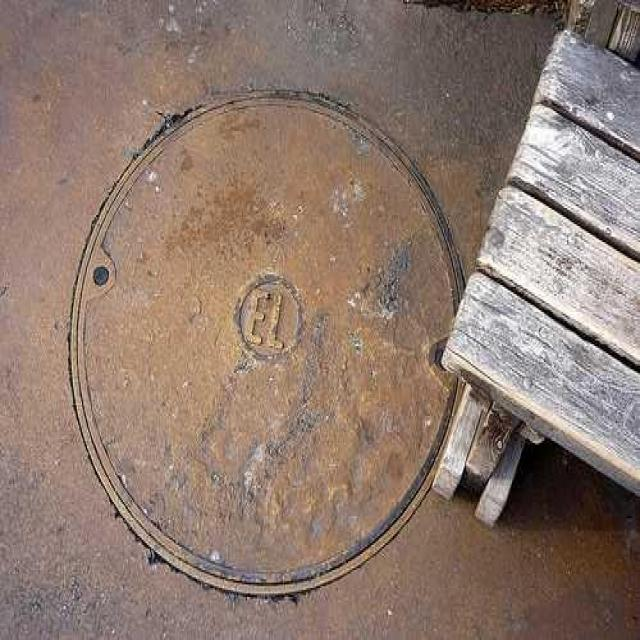manhole: (70, 91, 464, 593)
